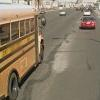buses: (0, 6, 47, 100)
